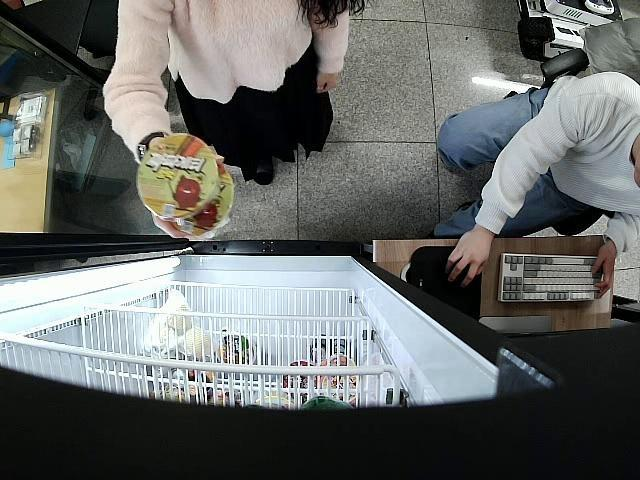04_chapagetti_S: (136, 133, 214, 216), (172, 166, 234, 236)
